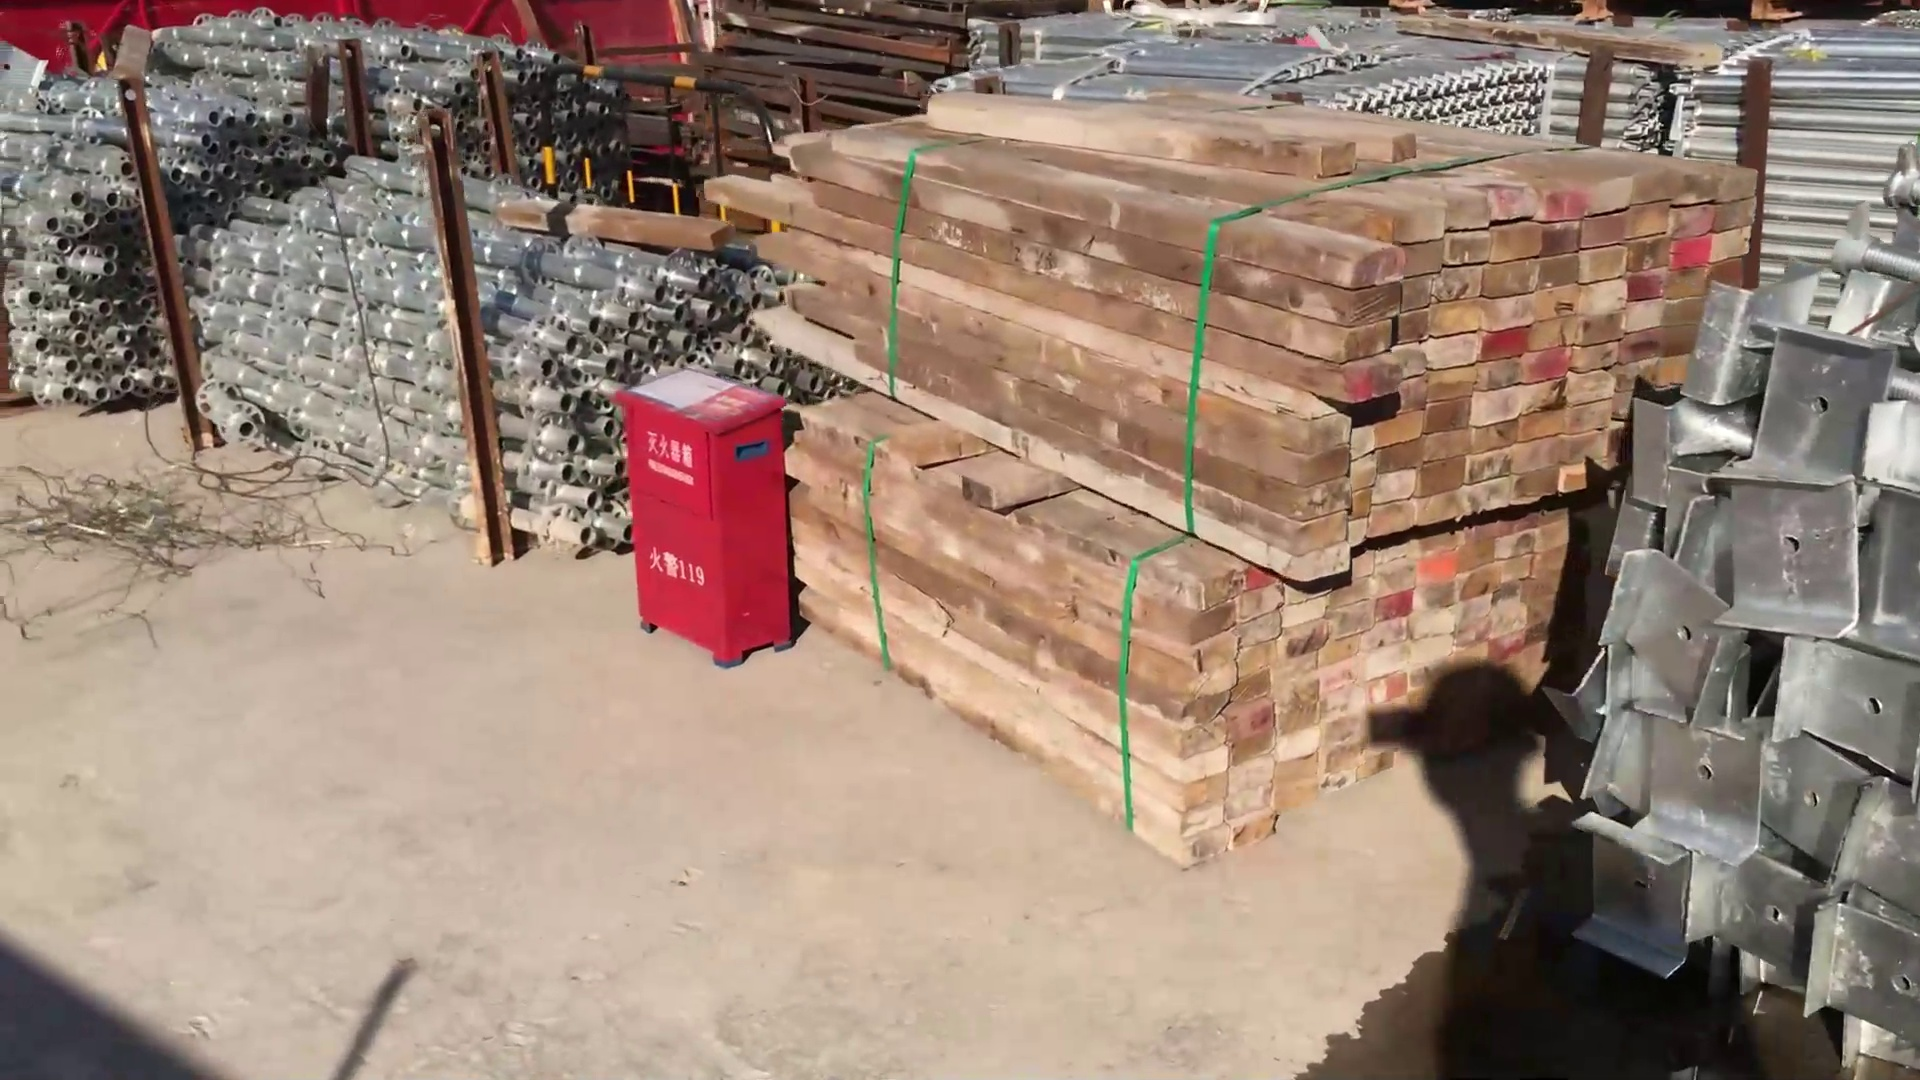scaffold: (9, 15, 732, 545), (1582, 29, 1920, 218), (1153, 16, 1571, 137)
wood: (746, 95, 1569, 868)
